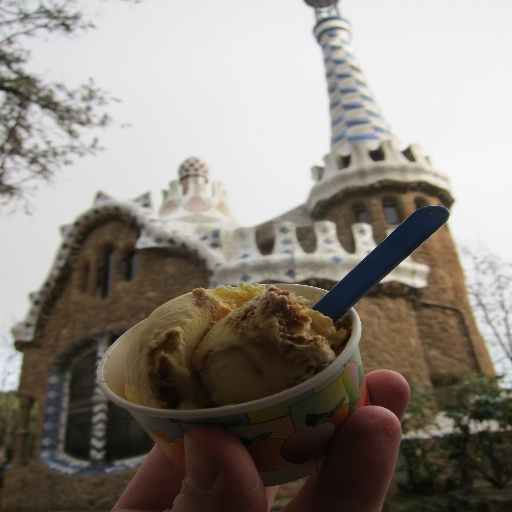hand: (112, 368, 412, 511)
